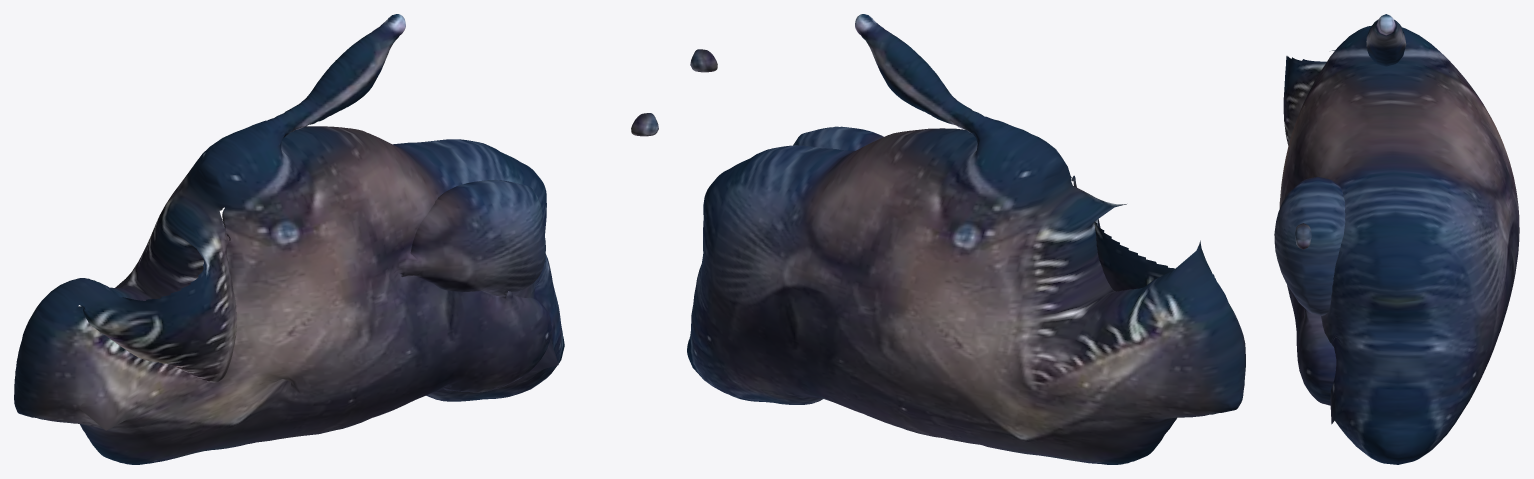
Rendered from anglerfish.glb.
The picture shows the model from 3 angles, left to right: view 1: azimuth 30°, elevation 25°; view 2: azimuth 150°, elevation 25°; view 3: azimuth 270°, elevation 25°; orthographic projection. The views are drawn at different scales.
Parts seen in each view (by area): view 1: mesh_0; view 2: mesh_0; view 3: mesh_0.
Part boxes in pixels (x1=…): mesh_0: x1=14, y1=14, x2=658, y2=464; mesh_0: x1=687, y1=14, x2=1245, y2=464; mesh_0: x1=1274, y1=14, x2=1519, y2=464.
Bounding box in the file's own units: 6.47 × 4.22 × 2.39.
Materials: 1 (1 with a texture image).
